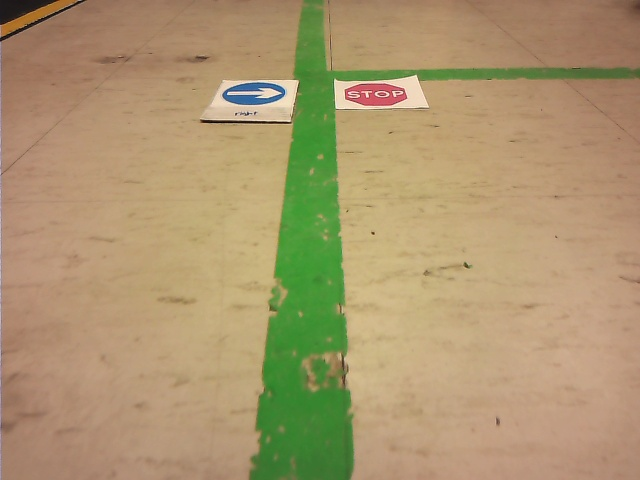STOP: (345, 83, 407, 105)
TURN RIGHT: (222, 82, 285, 104)
